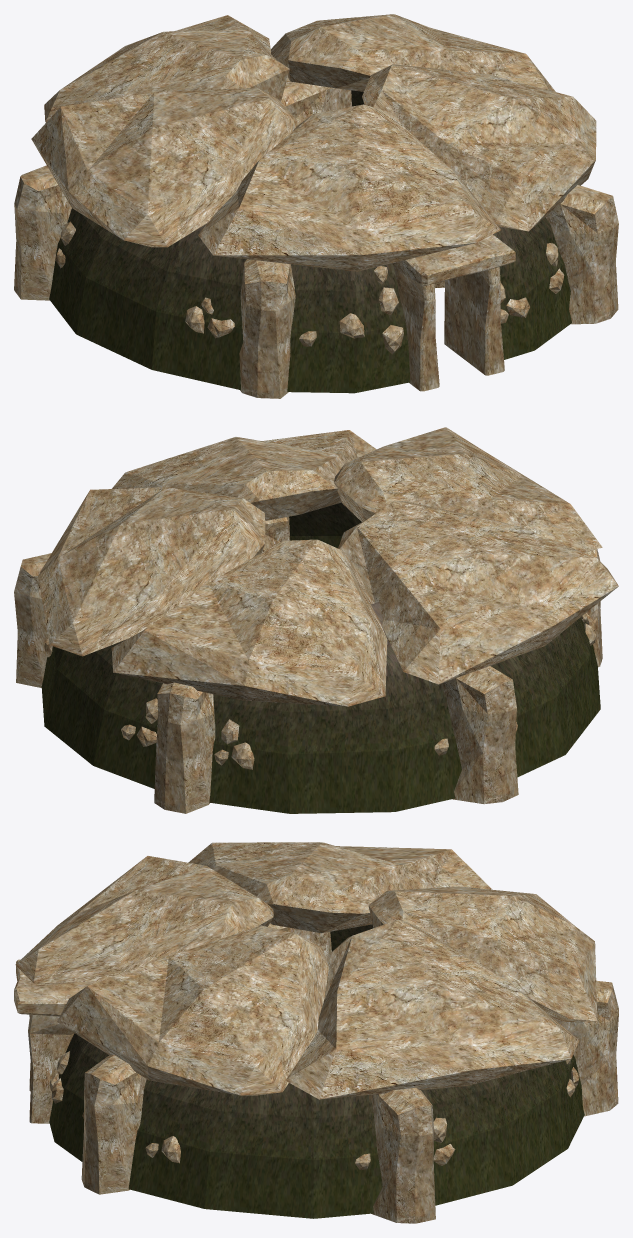
The model's file is thm_dant_large_hut_l0.fbx.
3 views of the same model, one above another, from view 1: azimuth 30°, elevation 25°; view 2: azimuth 150°, elevation 25°; view 3: azimuth 270°, elevation 25° (orthographic).
Parts seen in each view (by area): view 1: mesh_node; view 2: mesh_node; view 3: mesh_node.
Part boxes in pixels (x1,y1,x2,y2): mesh_node: (14,14,618,398); mesh_node: (14,427,618,813); mesh_node: (14,842,618,1223).
Size of the model in its own units: 22.98 by 9.13 by 24.41.
